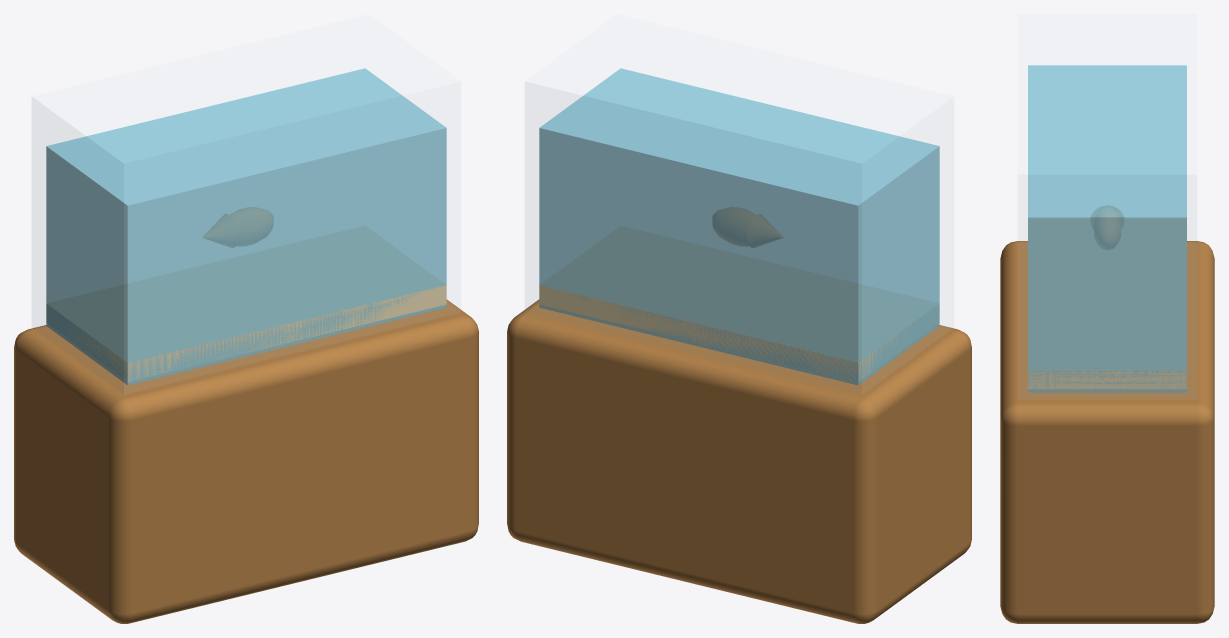
File: tank.glb
The picture shows the model from 3 angles, left to right: view 1: azimuth 30°, elevation 25°; view 2: azimuth 150°, elevation 25°; view 3: azimuth 270°, elevation 25°; orthographic projection. The views are drawn at different scales.
Size of the model in its own units: 1.2 by 1.43 by 0.62.
